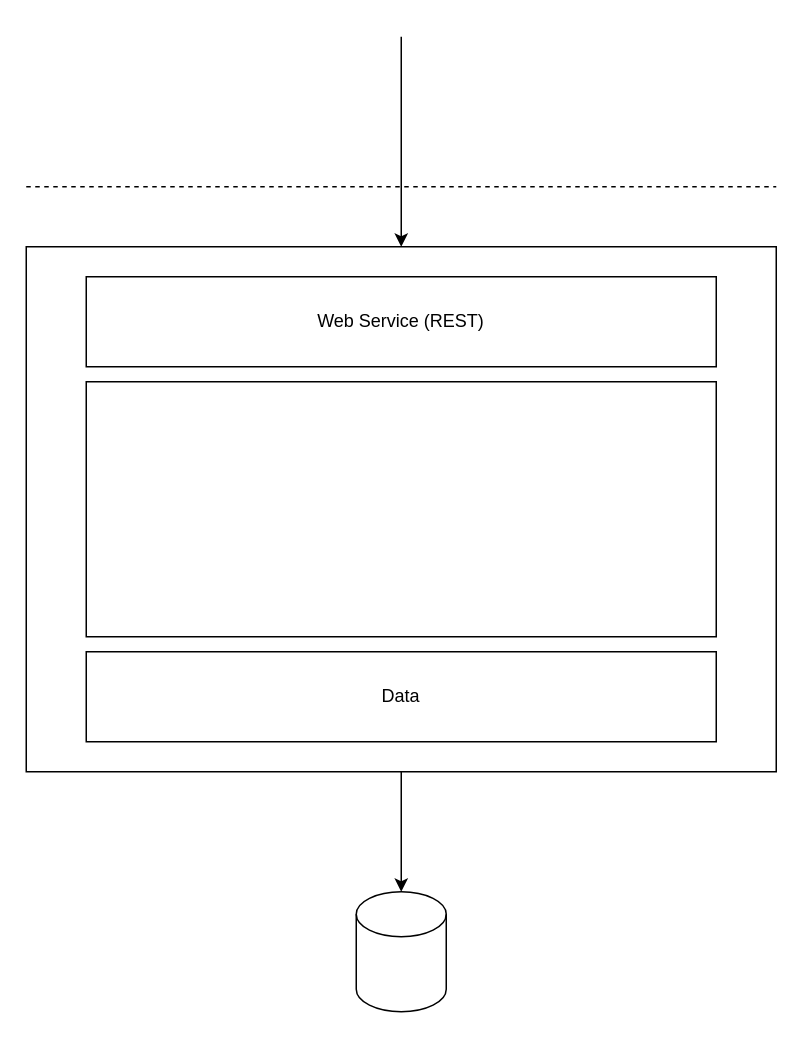
Some shapes in this 804 by 1038 pixel diagram are drawn without their labels. Here are the shapes that lost their labels. From the top down, the box of each, then its label:
(85, 380, 716, 637): Service
(355, 890, 446, 1012): DDBB
